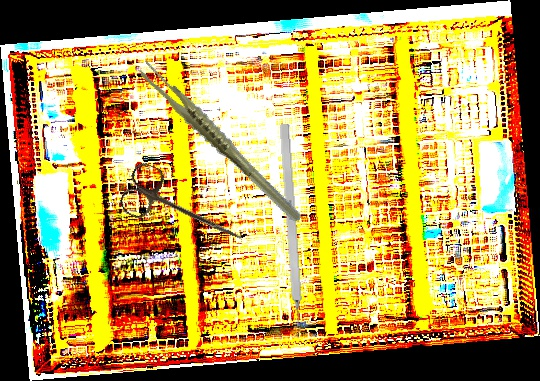Hook Surgical: (279, 123, 305, 341)
Iris Scissors: (116, 159, 254, 261)
Tissue Forceps: (134, 37, 305, 248)
